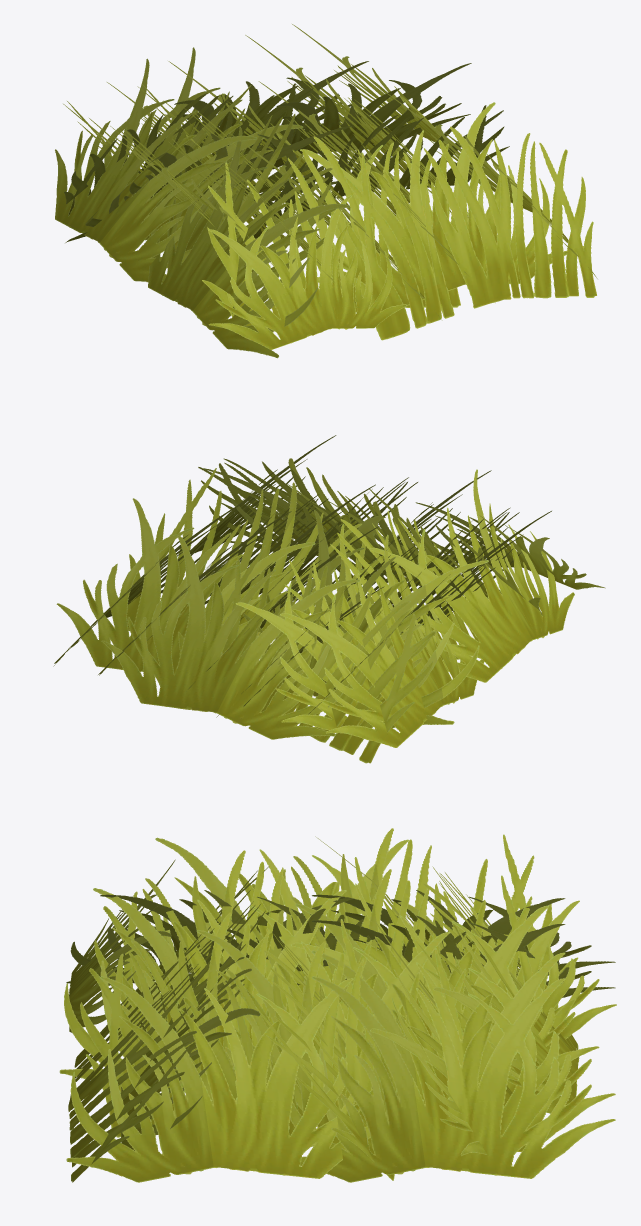
The model's file is grass.glb.
3 views of the same model, one above another, from view 1: azimuth 30°, elevation 25°; view 2: azimuth 150°, elevation 25°; view 3: azimuth 270°, elevation 25° (orthographic). The views are drawn at different scales.
Parts seen in each view (by area): view 1: grass1, grass; view 2: grass1, grass; view 3: grass, grass1.
Boxes of the visible parts, bbox=[...] form: grass1: bbox=[55, 47, 596, 358]; grass: bbox=[63, 24, 597, 320]; grass1: bbox=[56, 458, 605, 763]; grass: bbox=[53, 435, 551, 717]; grass: bbox=[59, 828, 616, 1182]; grass1: bbox=[66, 836, 615, 1182].
Size of the model in its own units: 127 by 44.1 by 130.
1 material, 1 textured.
